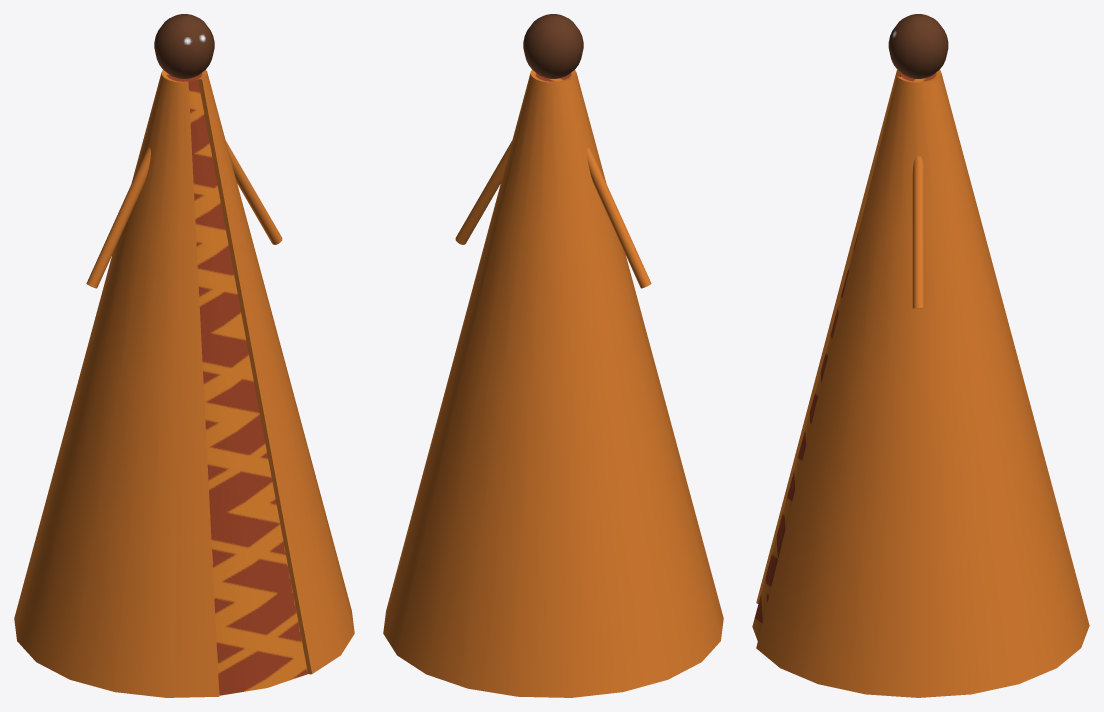
The model's file is guy_texture.glb.
The picture shows the model from 3 angles, left to right: view 1: azimuth 30°, elevation 25°; view 2: azimuth 150°, elevation 25°; view 3: azimuth 270°, elevation 25°; orthographic projection.
Visible parts, largest first — view 1: polySurface2, polySurface1, pSphere6, pCylinder7, pCylinder6; view 2: polySurface2, pSphere6, pCylinder7, pCylinder6; view 3: polySurface2, pSphere6, polySurface1, pCylinder6.
Boxes of the visible parts, x1,y1,x2,y2 form: polySurface2: [14, 70, 354, 697]; polySurface1: [166, 73, 307, 695]; pSphere6: [154, 14, 214, 78]; pCylinder7: [86, 147, 150, 288]; pCylinder6: [226, 141, 282, 244]; polySurface2: [383, 70, 723, 697]; pSphere6: [523, 14, 583, 78]; pCylinder7: [587, 147, 651, 288]; pCylinder6: [455, 141, 511, 244]; polySurface2: [756, 69, 1089, 697]; pSphere6: [888, 14, 948, 78]; polySurface1: [752, 73, 936, 640]; pCylinder6: [912, 156, 924, 308].
Size of the model in its own units: 0.2065 by 0.4063 by 0.2035.
1 material, 1 textured.
